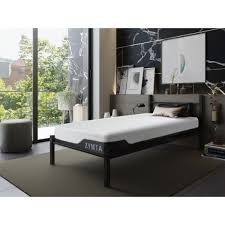bed-matress: (54, 110, 204, 158)
